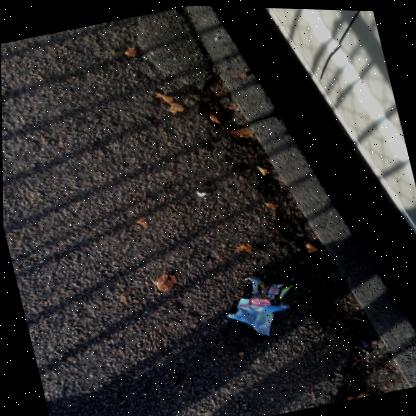Plastic: (222, 272, 293, 339)
